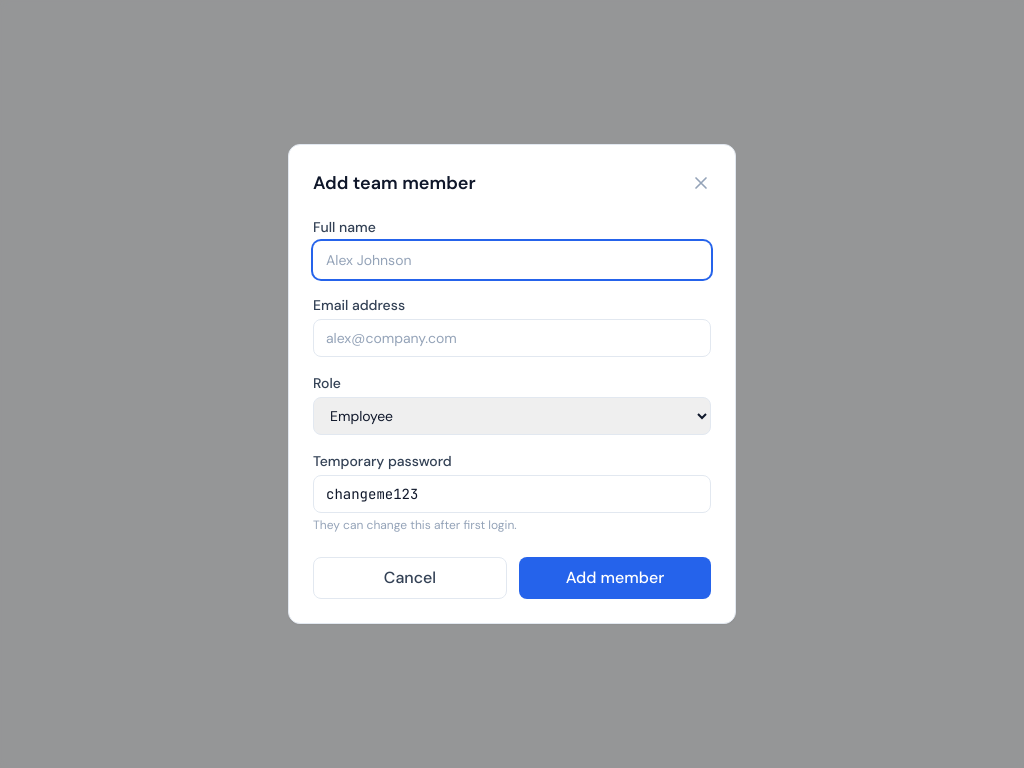
Test: AddEmployeeModal › shows error when employee is already a member
Type "Lou Poles" into the field with placeholder "Alex Johnson" at (512, 260), box [313,241,711,279]
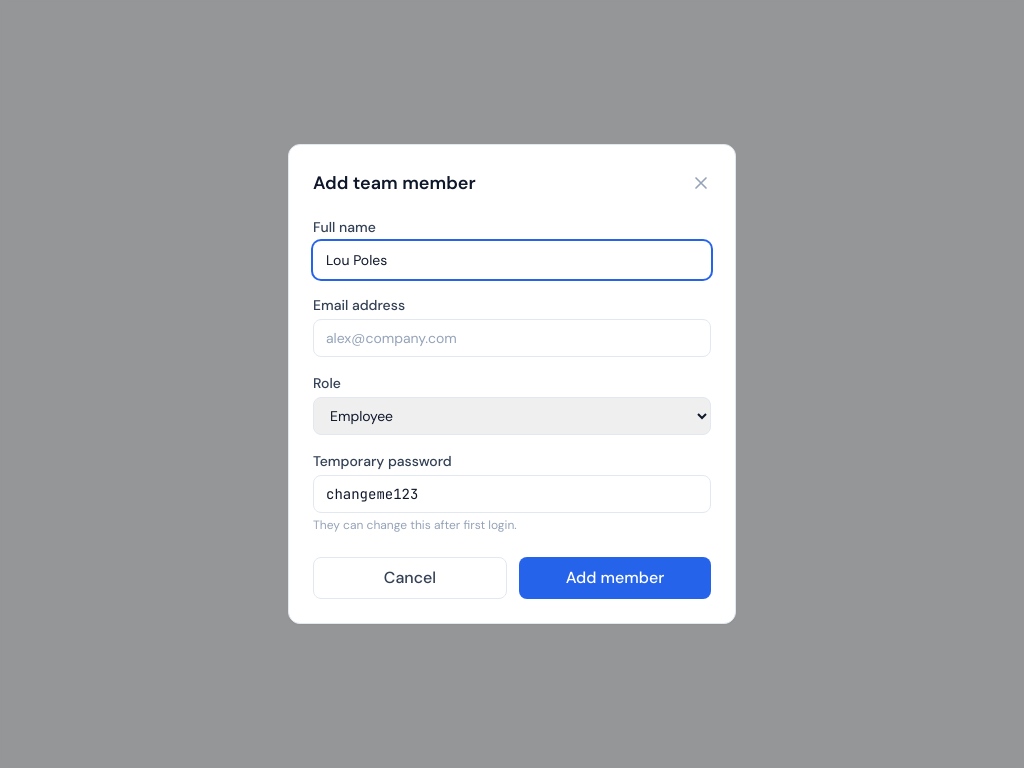
Type "duplicate@demo.com" into the field with placeholder "alex@company.com" at (512, 338), box [313,319,711,357]
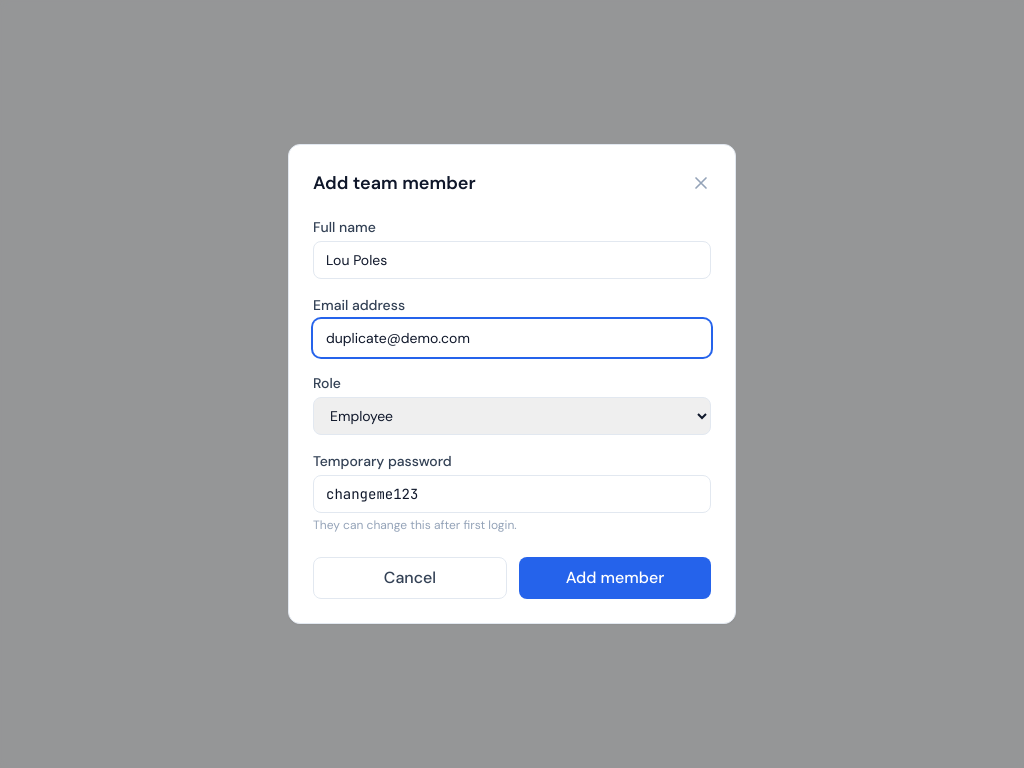
Click the button "Add member" at (615, 578), box [519,557,711,599]
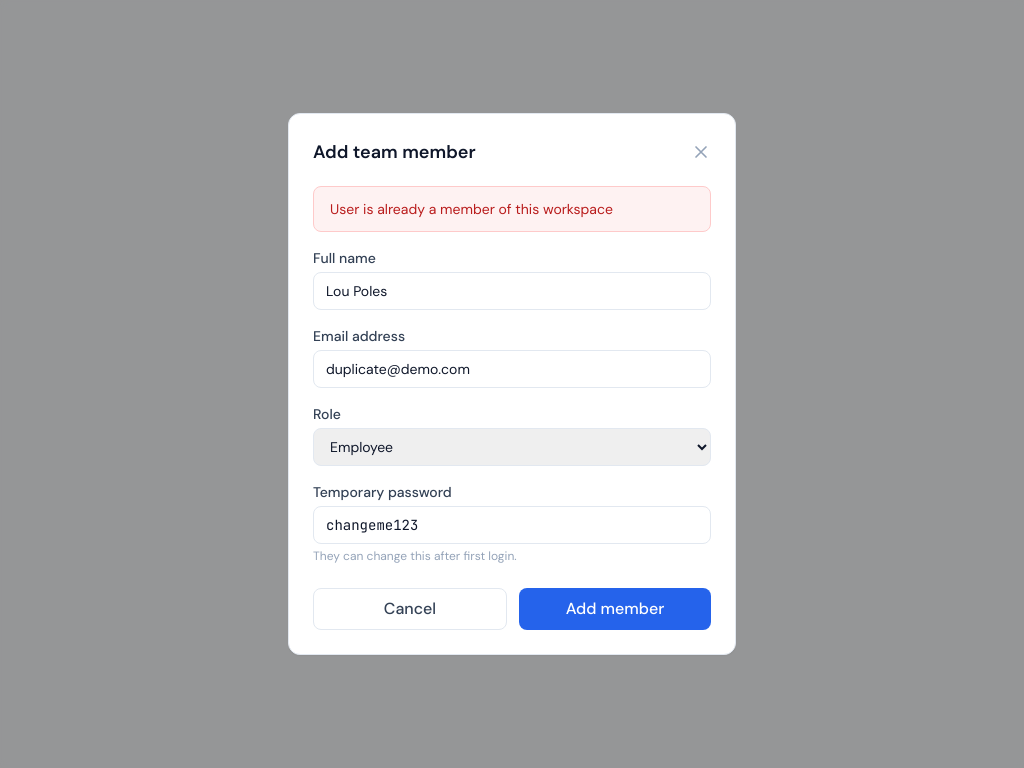
Expected: the text "User is already a member of this workspace" is shown, [313,186,711,232]
